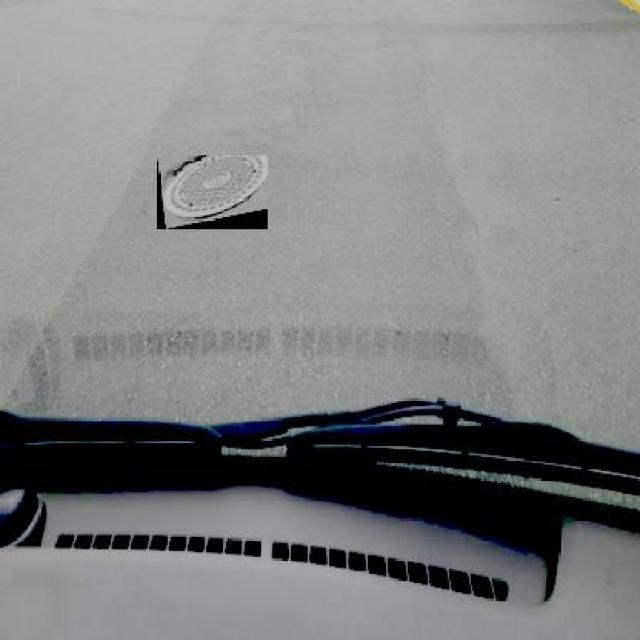Manhole: (156, 156, 269, 230)
